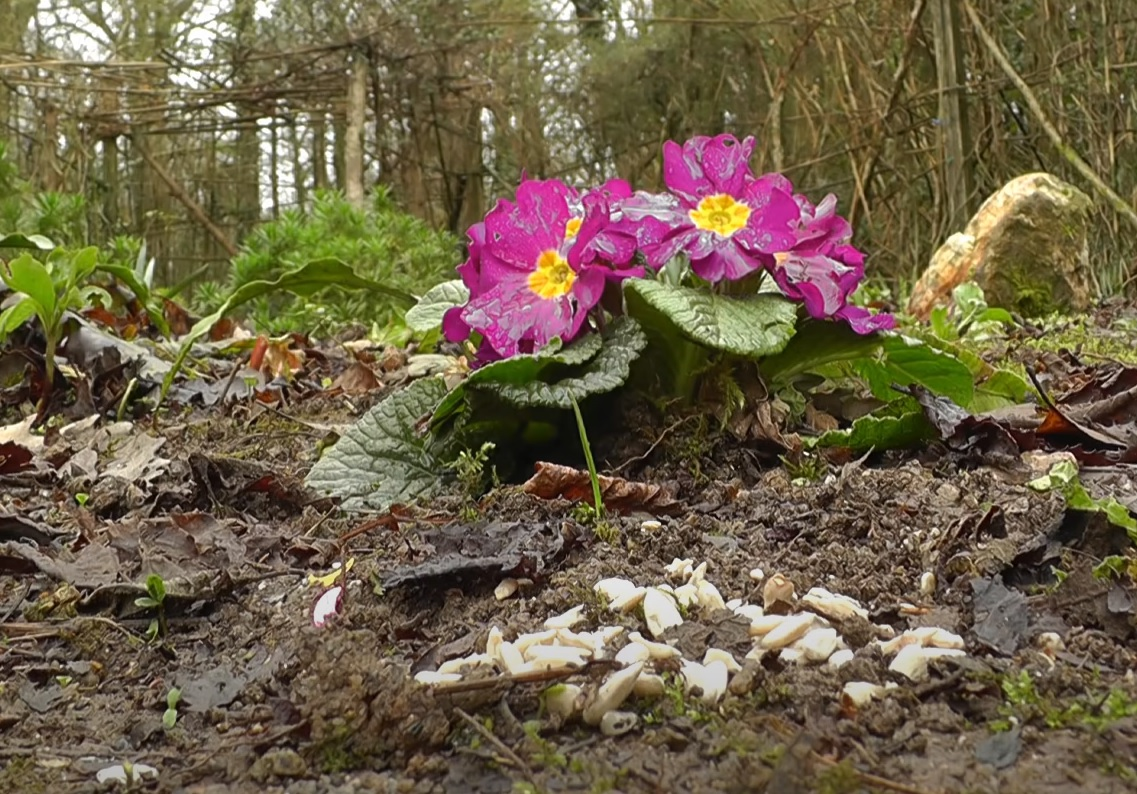seed: (415, 552, 1003, 729)
